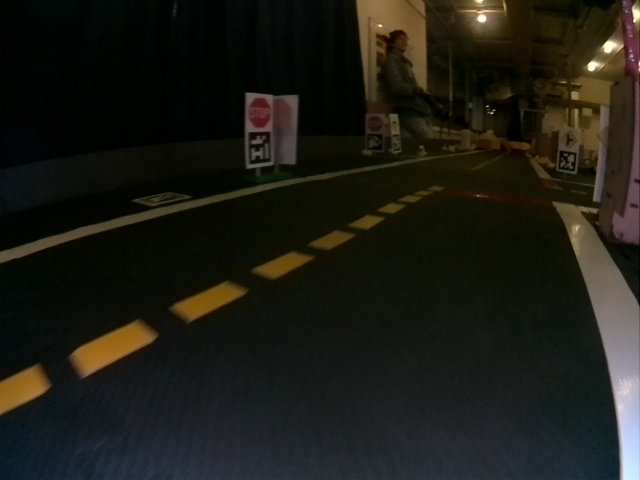Duckie: (416, 146, 426, 155)
Intersection sign: (560, 130, 577, 148), (391, 117, 399, 131)
QR code: (133, 192, 191, 206), (247, 131, 270, 163), (558, 150, 576, 171), (367, 134, 383, 151), (393, 136, 401, 151)
Stop sign: (248, 97, 271, 126), (366, 114, 380, 131)
